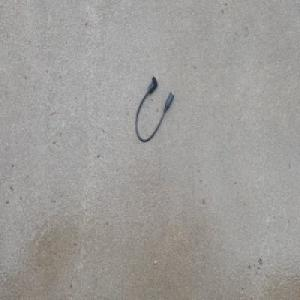Wire: (134, 74, 175, 143)
